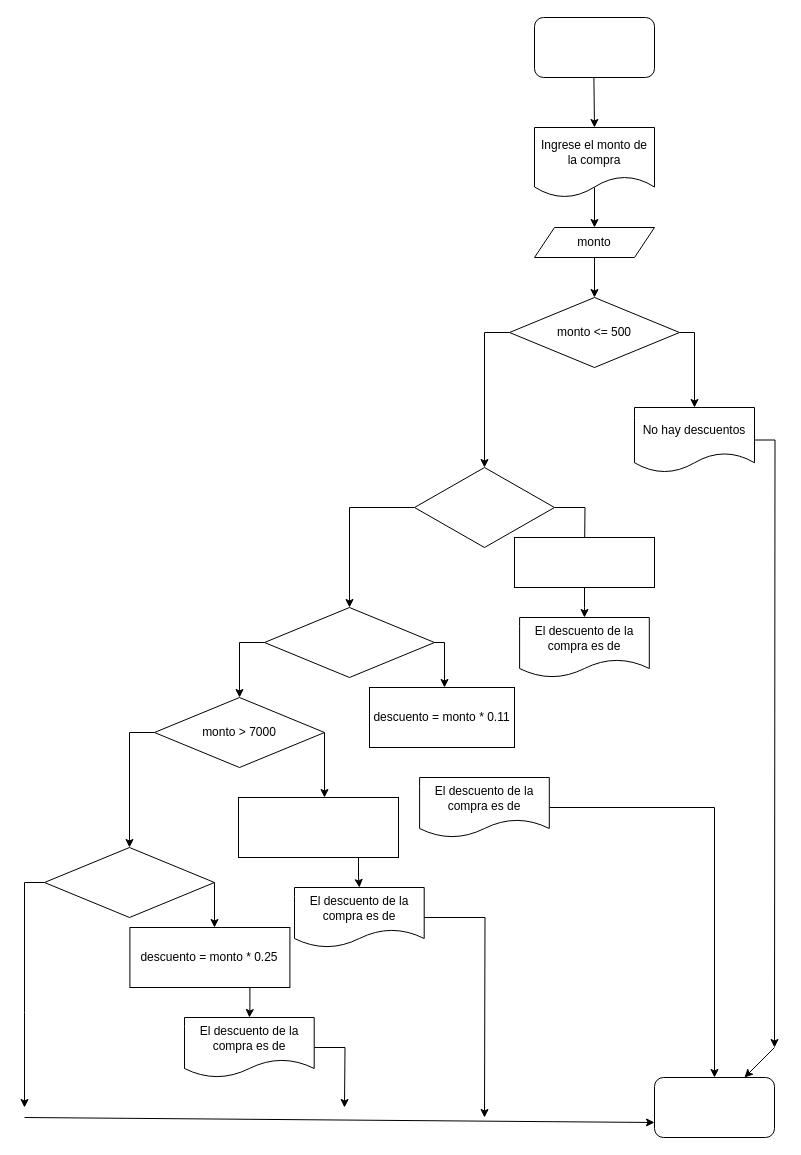
This 801x1155 diagram has some shape labels left out. The shapes that lost their labels are listed below. From the top down, each one's centre as x and y in pixels, then its label:
the point at 484,507: monto > 500
the point at 584,562: descuento = monto * 0.05
the point at 349,642: monto > 1000
the point at 318,827: descuento = monto * 0.18
the point at 129,882: monto > 15000
